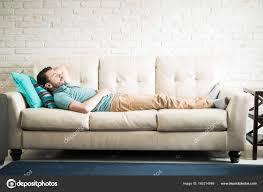no-mask: (35, 65, 67, 93)
